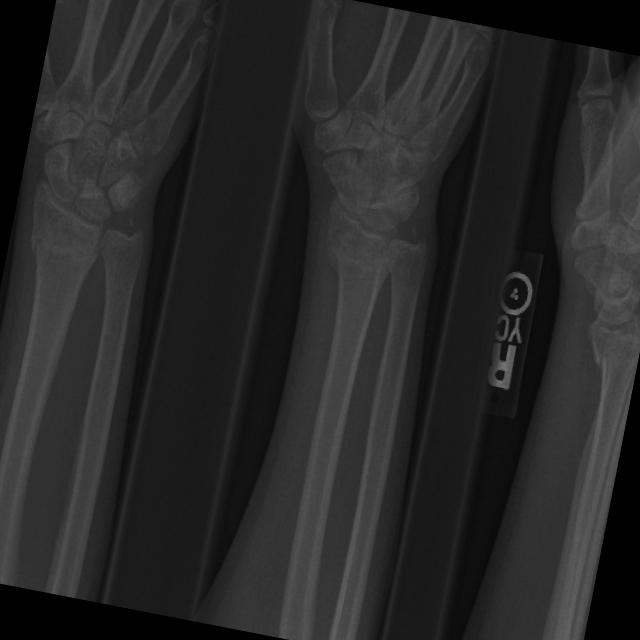fingers positive: (12, 202, 169, 303), (302, 215, 443, 309), (567, 334, 640, 407)
